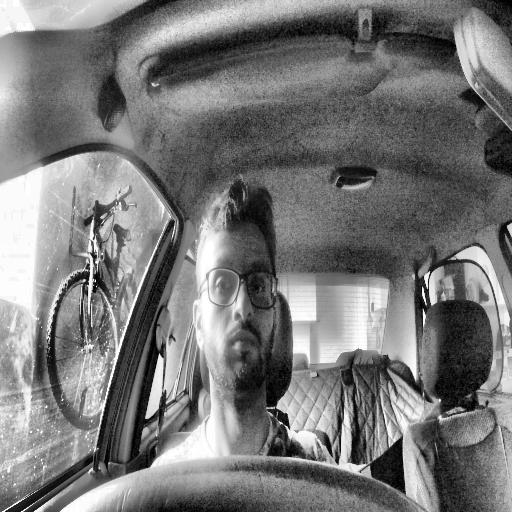awake: (192, 179, 282, 398)
